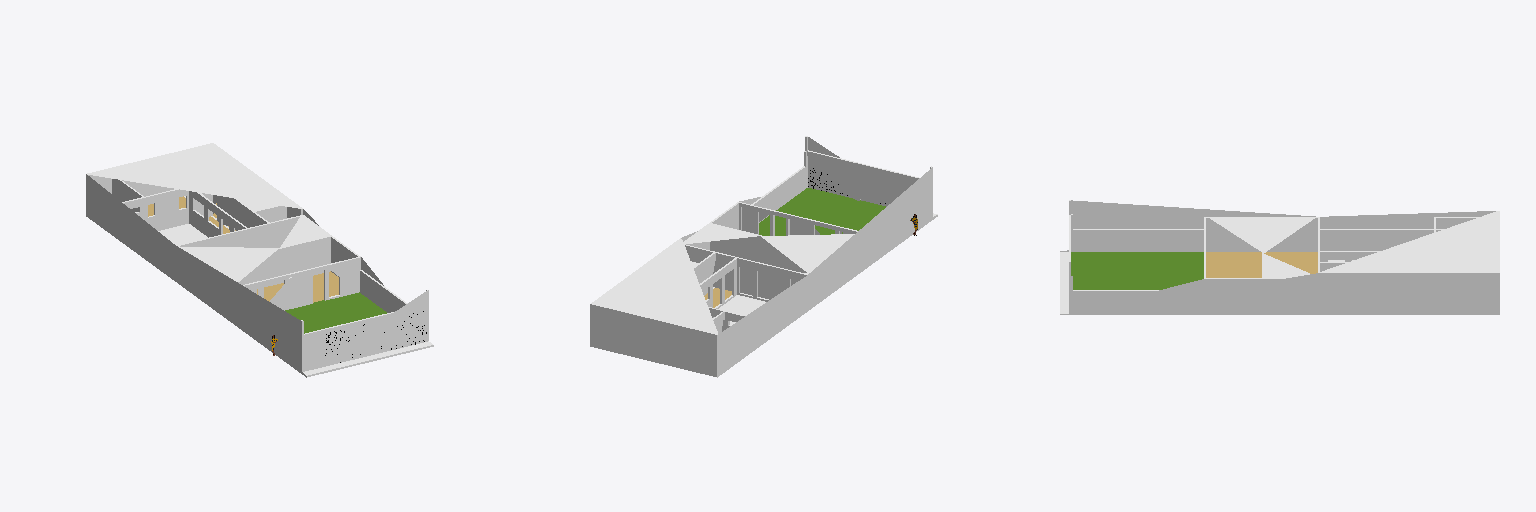
Rendered from fase4.obj.
The picture shows the model from 3 angles: view 1: azimuth 30°, elevation 25°; view 2: azimuth 150°, elevation 25°; view 3: azimuth 270°, elevation 25°; orthographic projection.
Visible parts, largest first — view 1: Mesh2 Model; view 2: Mesh2 Model; view 3: Mesh2 Model.
Boxes of the visible parts, <box> form: Mesh2 Model: <box>86,143,433,377</box>; Mesh2 Model: <box>590,136,937,377</box>; Mesh2 Model: <box>1060,200,1499,314</box>.
Size of the model in its own units: 10.62 by 3.98 by 30.01.